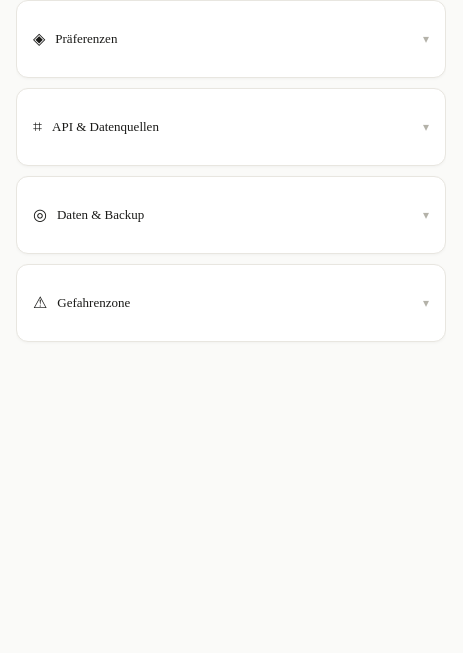
it: EinstellungenTab › Import/Export-Sektion öffnet und zeigt die Eintragszahl
This screenshot has width=463, height=653.
// Disclosure-Panels sind geschlossen unmountet → Sektion erst öffnen
Click the text "Daten & Backup" at (101, 215), box [57,205,144,225]
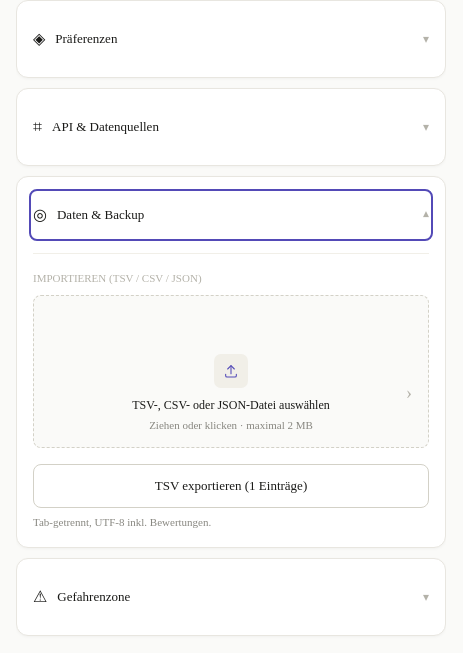
Result: the text "IMPORTIEREN (TSV / CSV / JSON)" is shown at [33,272,202,284]
Result: the button "TSV exportieren (1 Einträge)" is shown at [33,464,429,508]
